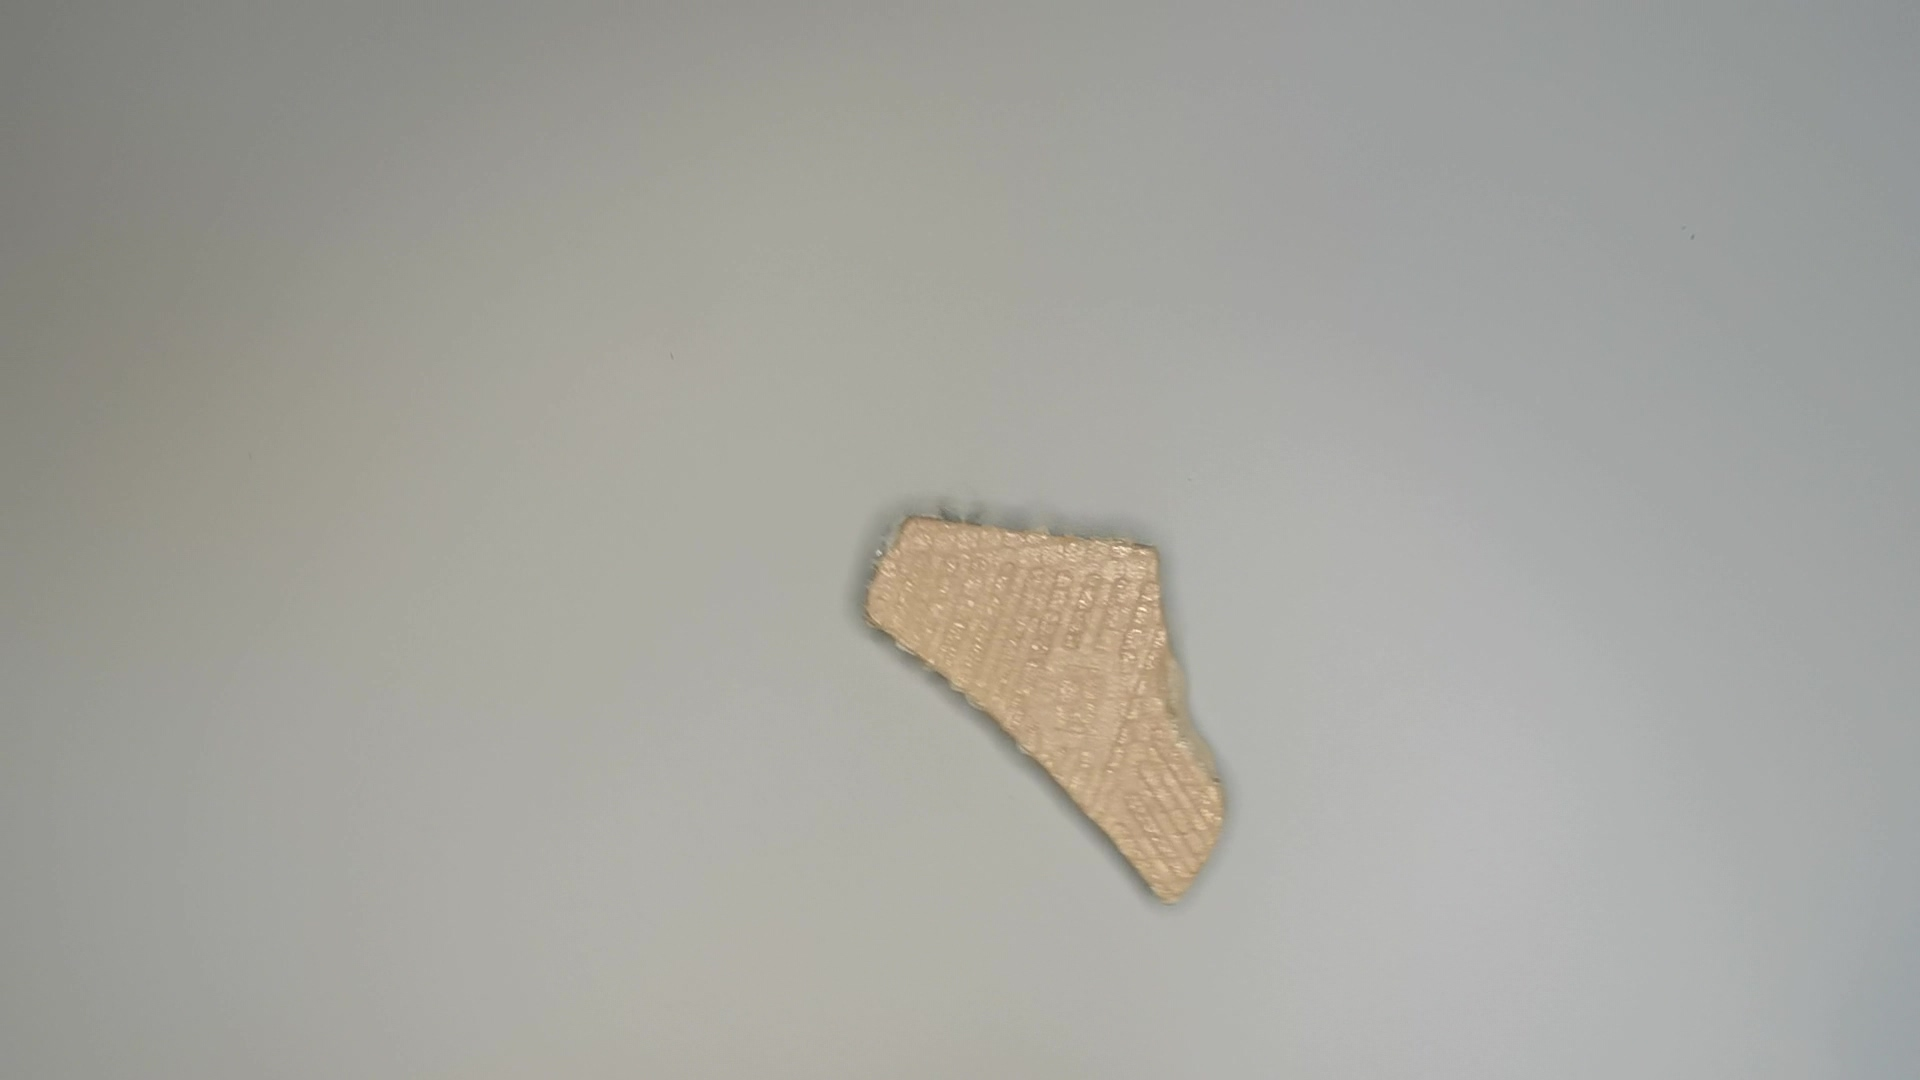ceramic: (858, 501, 1255, 919)
